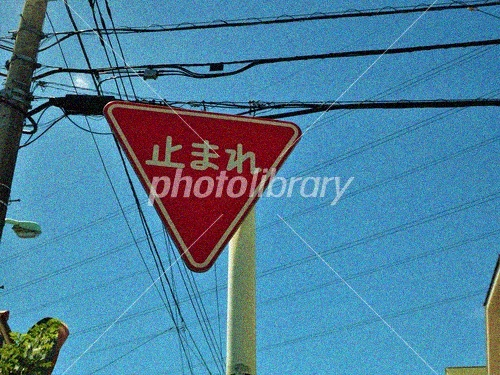Regulatory_sign_triangle: (86, 82, 308, 293)
